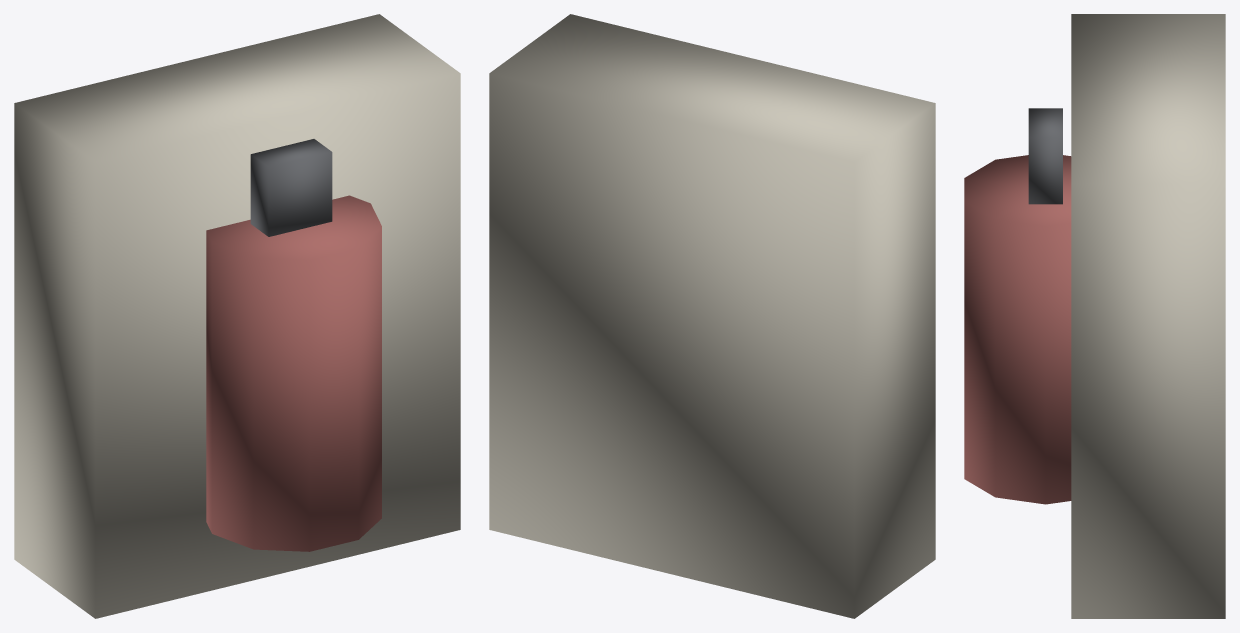
Rendered from extinguisher_cabinet__squat.glb.
3 views of the same model, side by side, from view 1: azimuth 30°, elevation 25°; view 2: azimuth 150°, elevation 25°; view 3: azimuth 270°, elevation 25° (orthographic). The views are drawn at different scales.
Parts seen in each view (by area): view 1: world; view 2: world; view 3: world.
Boxes of the visible parts, x1,y1,x2,y2 form: world: [14, 14, 460, 618]; world: [489, 14, 935, 618]; world: [964, 14, 1225, 618].
Bounding box in the file's own units: 0.506 × 0.6048 × 0.3295.
